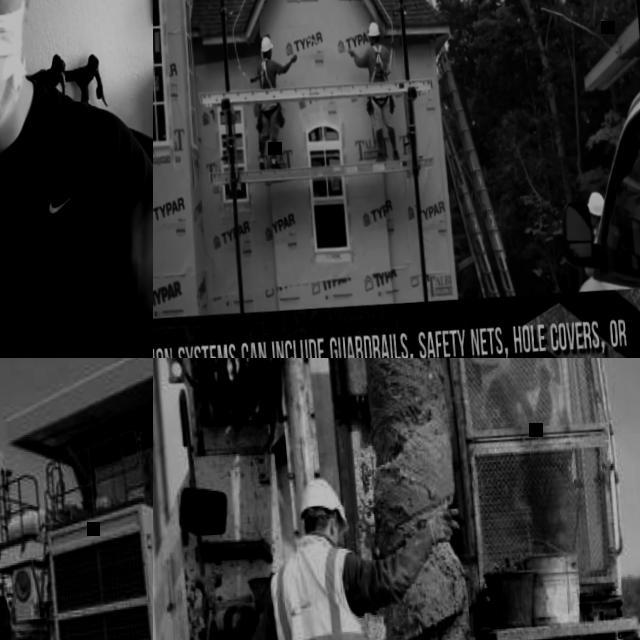helmet: (300, 474, 350, 532), (585, 190, 604, 215), (366, 21, 379, 36), (260, 36, 272, 51)
vest: (264, 530, 379, 640), (492, 369, 570, 472)
